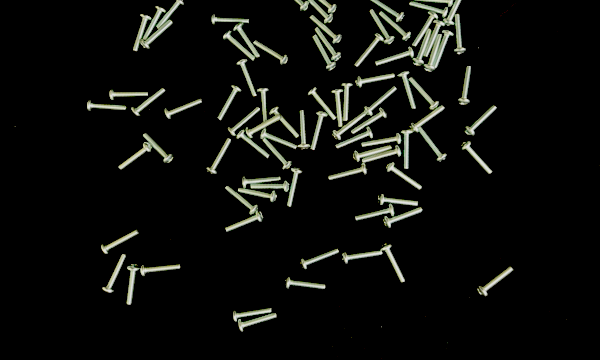longscrew: (476, 264, 515, 300), (332, 108, 370, 141), (298, 245, 343, 272), (141, 131, 176, 165), (460, 140, 494, 175), (384, 161, 425, 190), (464, 104, 500, 137), (417, 125, 448, 163), (101, 252, 128, 295), (408, 76, 441, 111), (378, 10, 413, 43), (308, 13, 344, 45), (306, 86, 338, 122), (353, 32, 385, 68), (100, 228, 141, 256), (130, 87, 167, 118), (380, 243, 407, 285), (269, 106, 302, 140), (227, 106, 262, 138), (140, 19, 175, 51), (222, 30, 257, 62), (232, 22, 262, 59), (409, 104, 447, 133), (216, 83, 244, 122), (364, 85, 399, 116), (205, 137, 232, 177), (117, 142, 153, 172), (411, 12, 440, 49), (252, 38, 290, 66), (351, 107, 389, 135), (224, 186, 259, 216), (236, 130, 271, 160), (314, 26, 343, 62), (383, 206, 426, 230), (368, 8, 395, 46), (262, 138, 293, 171), (334, 126, 376, 150), (164, 96, 204, 121), (141, 4, 167, 42), (311, 34, 337, 72), (224, 210, 265, 234), (156, 0, 187, 31), (374, 45, 415, 68), (246, 114, 283, 139), (433, 29, 455, 71), (259, 127, 299, 150), (237, 311, 278, 333), (131, 12, 153, 53), (424, 19, 447, 58), (367, 0, 406, 23), (361, 144, 403, 165), (423, 32, 444, 74), (236, 59, 258, 99), (355, 203, 396, 224), (408, 0, 450, 20), (412, 27, 433, 67), (302, 0, 335, 25), (353, 144, 394, 164), (310, 110, 329, 153), (354, 71, 397, 90), (340, 248, 385, 266), (397, 71, 417, 111), (327, 162, 369, 181), (286, 167, 305, 208), (232, 306, 274, 324), (140, 262, 182, 280), (456, 65, 474, 107), (236, 187, 279, 204), (125, 262, 141, 306), (443, 0, 469, 27), (283, 277, 329, 292), (361, 132, 403, 148), (85, 98, 128, 113), (399, 128, 414, 171), (453, 13, 468, 56), (241, 175, 283, 190), (340, 80, 355, 122), (377, 193, 421, 207), (108, 87, 150, 101), (331, 87, 345, 129), (257, 86, 271, 126), (297, 109, 310, 152), (210, 13, 252, 26), (250, 180, 291, 193), (303, 0, 338, 14), (276, 0, 310, 12), (412, 0, 457, 7)
